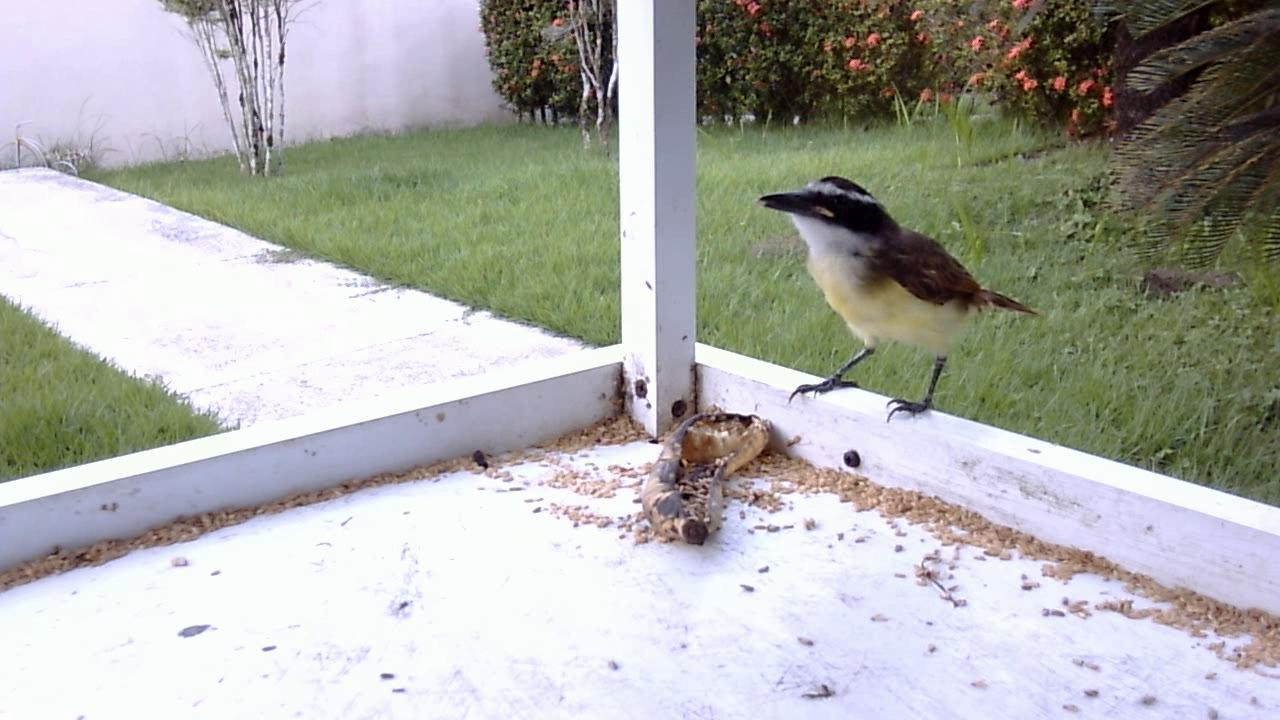bem_te_vi: (745, 168, 1047, 432)
